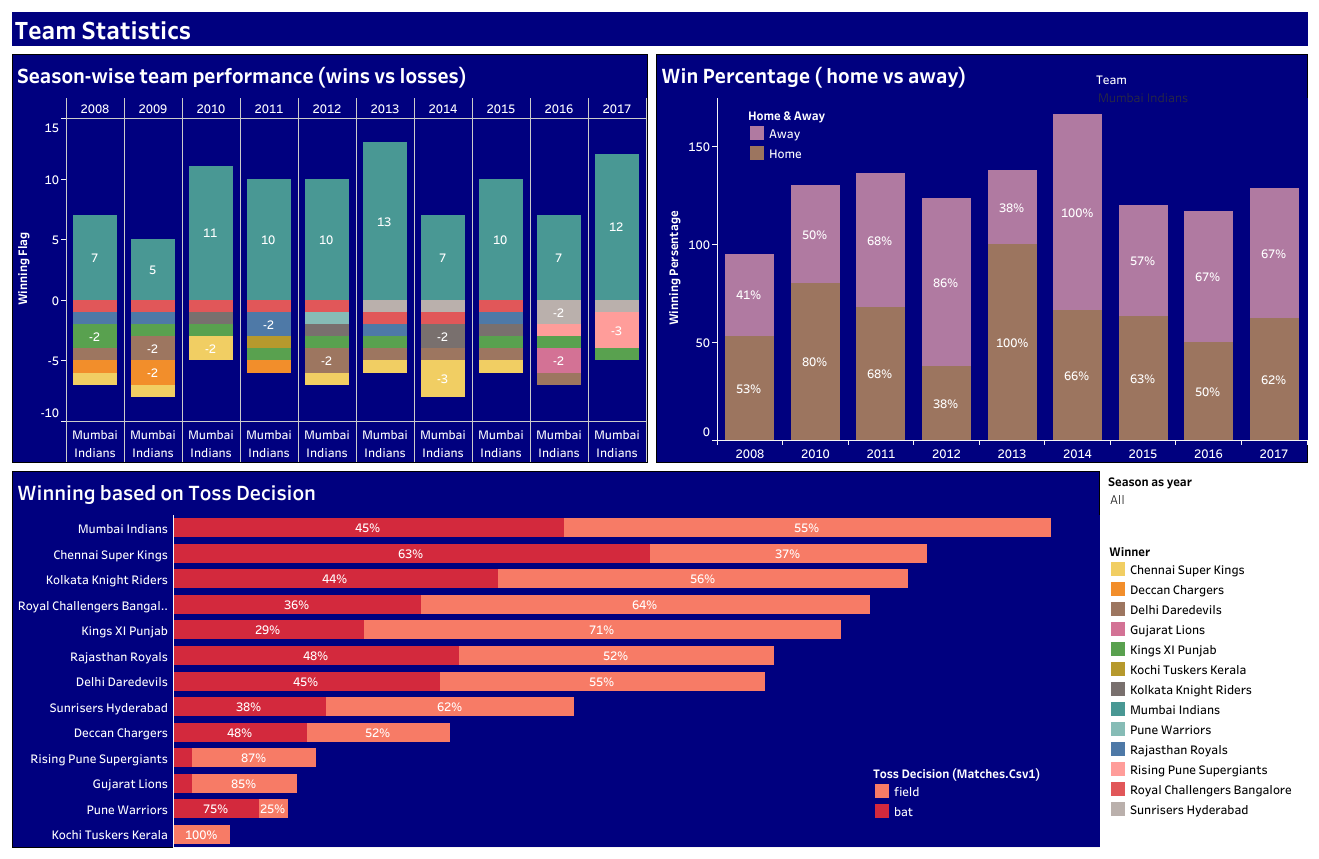

Layout of this report page (visuals, bound fields, positions):
{"tool":"tableau","page":{"name":"Team Statistics","canvas":[1320,860],"ordinal":2},"visuals":[{"type":"title","box":[8,8,1304,41]},{"type":"worksheet","title":"Season-wise team performance (wins vs losses)","mark":"Automatic","rows":["Calculation_1246371247312650242"],"cols":["Calculation_731834989258354689"],"box":[8,49,644.2,417.9]},{"type":"worksheet","title":"Win Percentage ( home vs away)","mark":"Automatic","rows":["Calculation_840484330992107521"],"cols":["Calculation_731834989258354689"],"box":[652.2,49,659.8,417.9]},{"type":"parameter","param":"[Parameters].[Parameter 2]","box":[1096.1,68.8,207.1,52.2]},{"type":"legend","title":"Win Percentage ( home vs away)","param":"[federated.0xpvl9k142aeco1g1o5wq037uevb].[none:Calculation_840484330992893954:nk","box":[746.7,104.4,181.2,78.3]},{"type":"worksheet","title":"Winning based on Toss Decision","mark":"Automatic","rows":["winner"],"cols":["winner"],"box":[8,466.9,1096,385.1]},{"type":"filter","title":"Season-wise team performance (wins vs losses)","param":"[federated.0xpvl9k142aeco1g1o5wq037uevb].[none:Calculation_731834989258354689:nk","box":[1104,466.9,208,68.5]},{"type":"legend","title":"Season-wise team performance (wins vs losses)","param":"[federated.0xpvl9k142aeco1g1o5wq037uevb].[none:winner:nk]","box":[1104,535.4,208,316.6]},{"type":"legend","title":"Winning based on Toss Decision","param":"[federated.0xpvl9k142aeco1g1o5wq037uevb].[none:toss_decision (matches.csv1):nk]","box":[872.2,761.5,181.2,68.8]}]}

Visuals, with their boxes in screenshot pixels (x1, y1, x2, y2), scaled from the page's 1320x860 canvas onto the 1319x859 screenshot:
title: detection(8, 8, 1311, 49)
"Season-wise team performance (wins vs losses)" worksheet: detection(8, 49, 652, 466)
"Win Percentage ( home vs away)" worksheet: detection(652, 49, 1311, 466)
parameter: detection(1095, 69, 1302, 121)
"Win Percentage ( home vs away)" legend: detection(746, 104, 927, 182)
"Winning based on Toss Decision" worksheet: detection(8, 466, 1103, 851)
"Season-wise team performance (wins vs losses)" filter: detection(1103, 466, 1311, 535)
"Season-wise team performance (wins vs losses)" legend: detection(1103, 535, 1311, 851)
"Winning based on Toss Decision" legend: detection(872, 761, 1053, 829)
